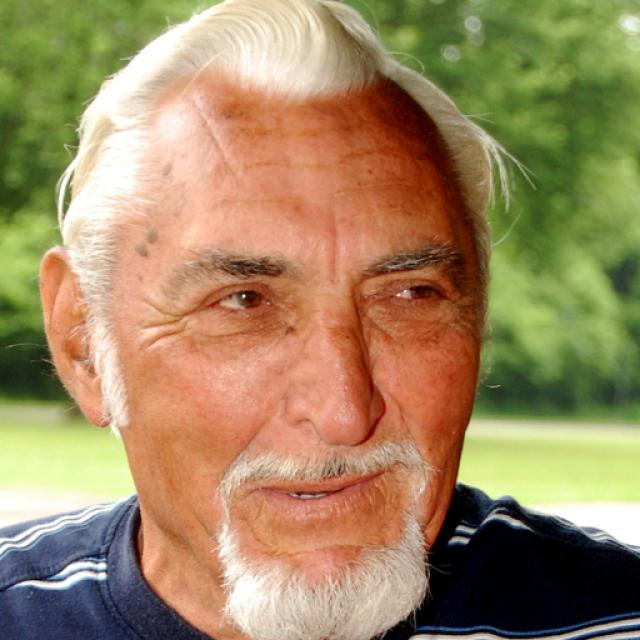Pigmentation: (308, 98, 423, 148), (206, 100, 268, 165), (321, 318, 367, 399)
Wrinkle: (340, 170, 442, 204), (209, 191, 305, 214), (139, 325, 188, 351)
